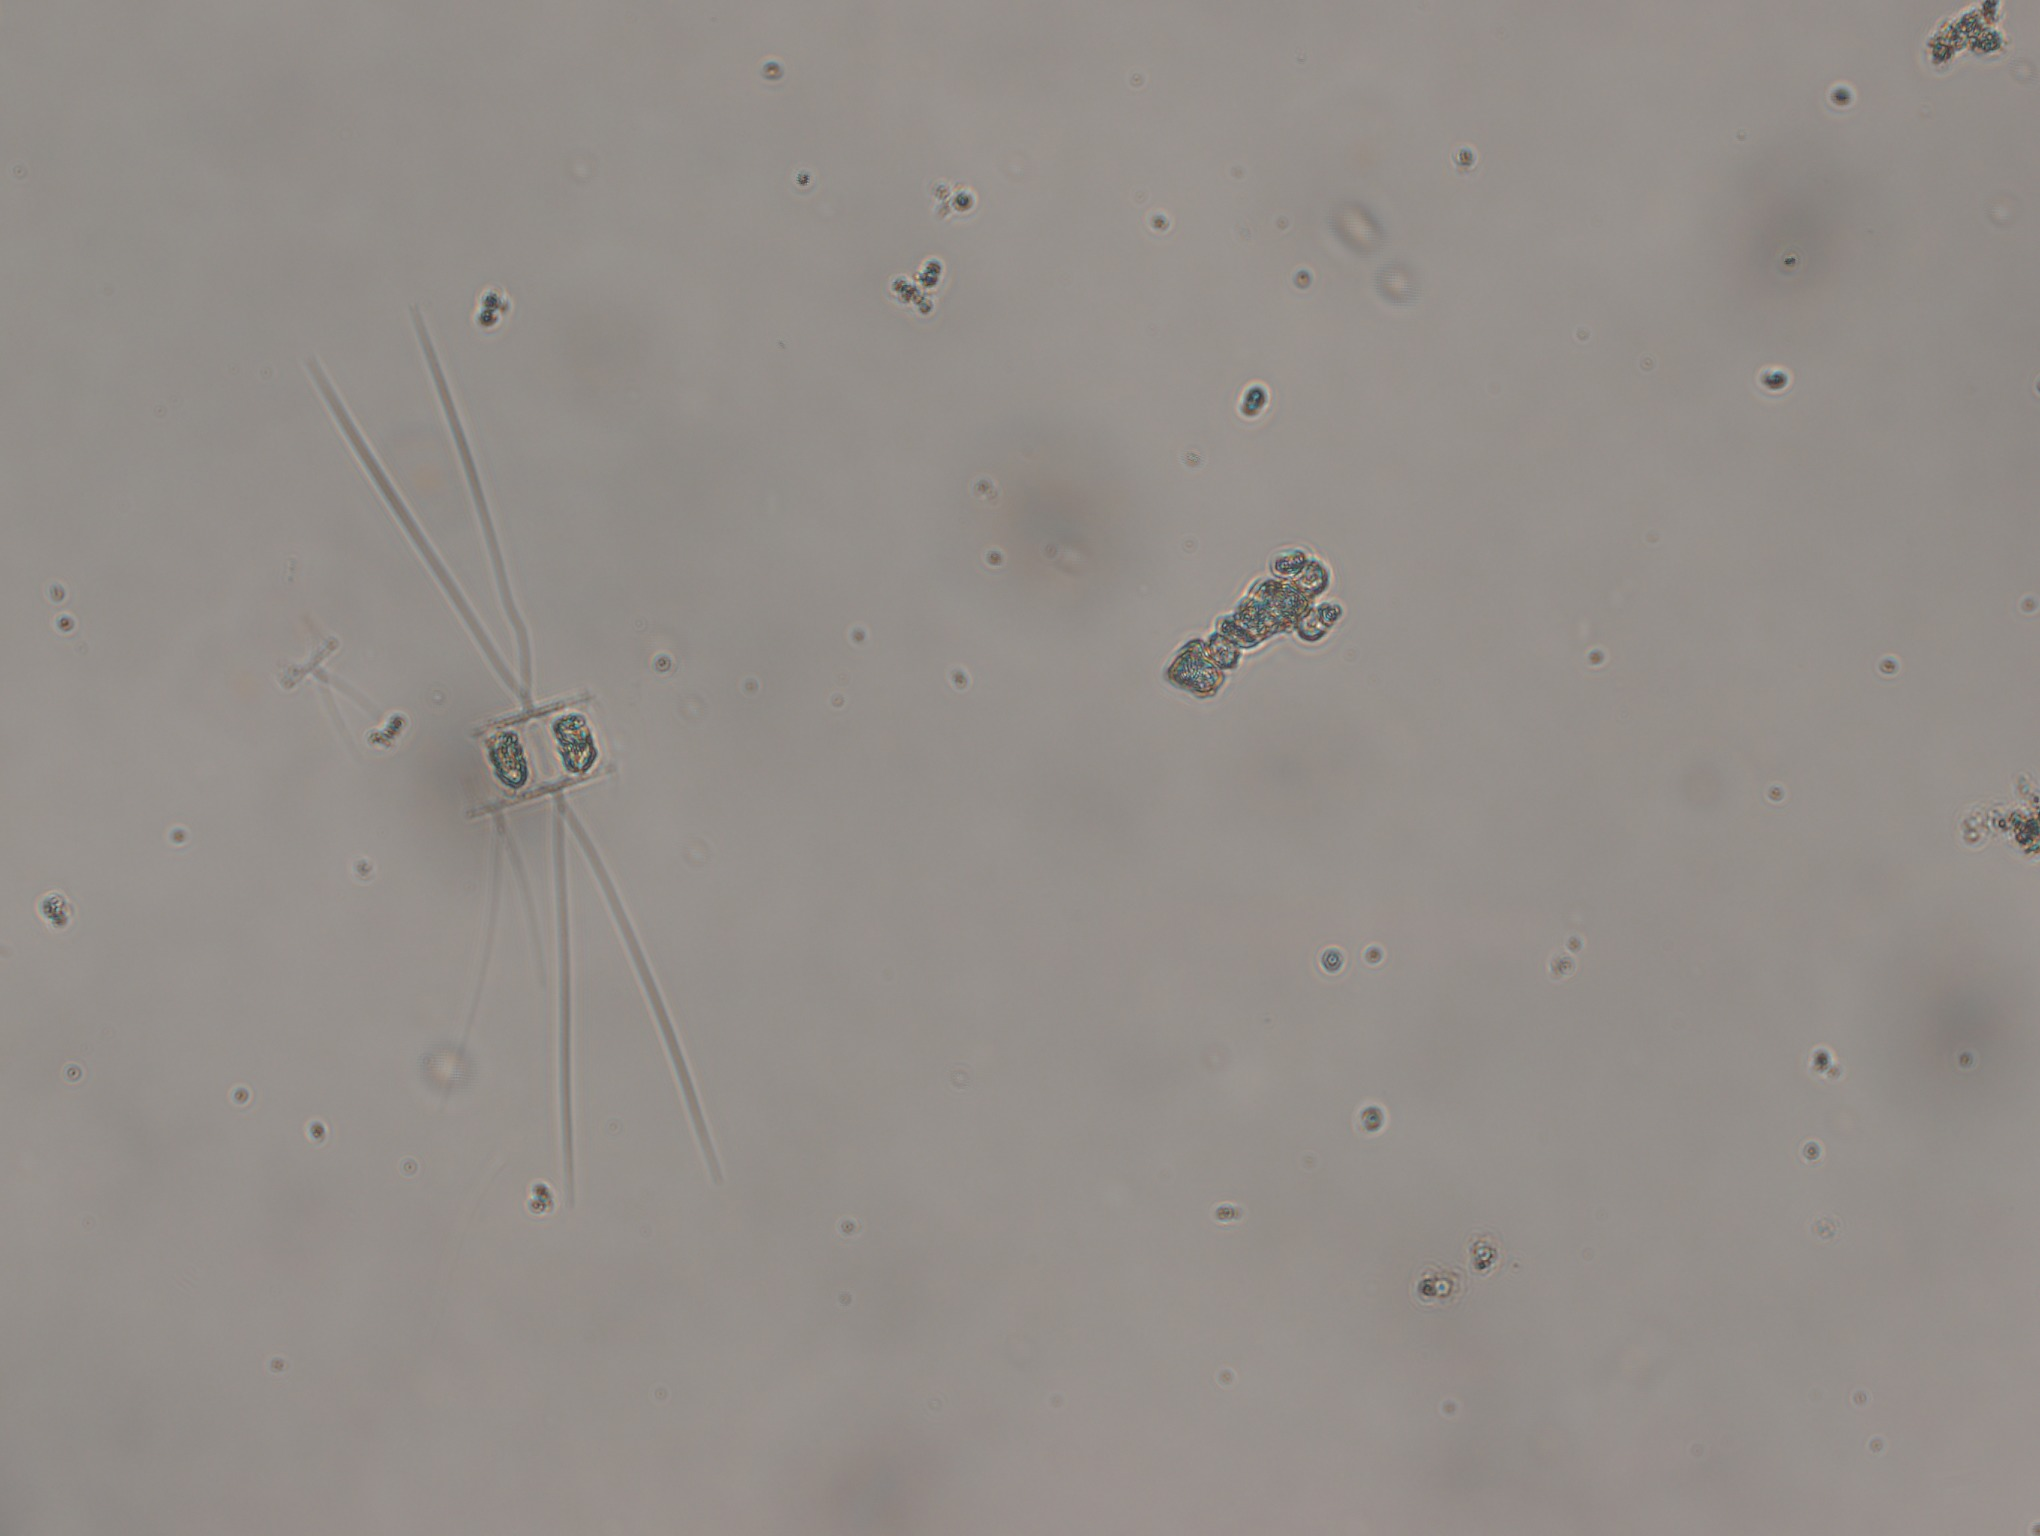chaetoceros: (279, 300, 760, 1204)
